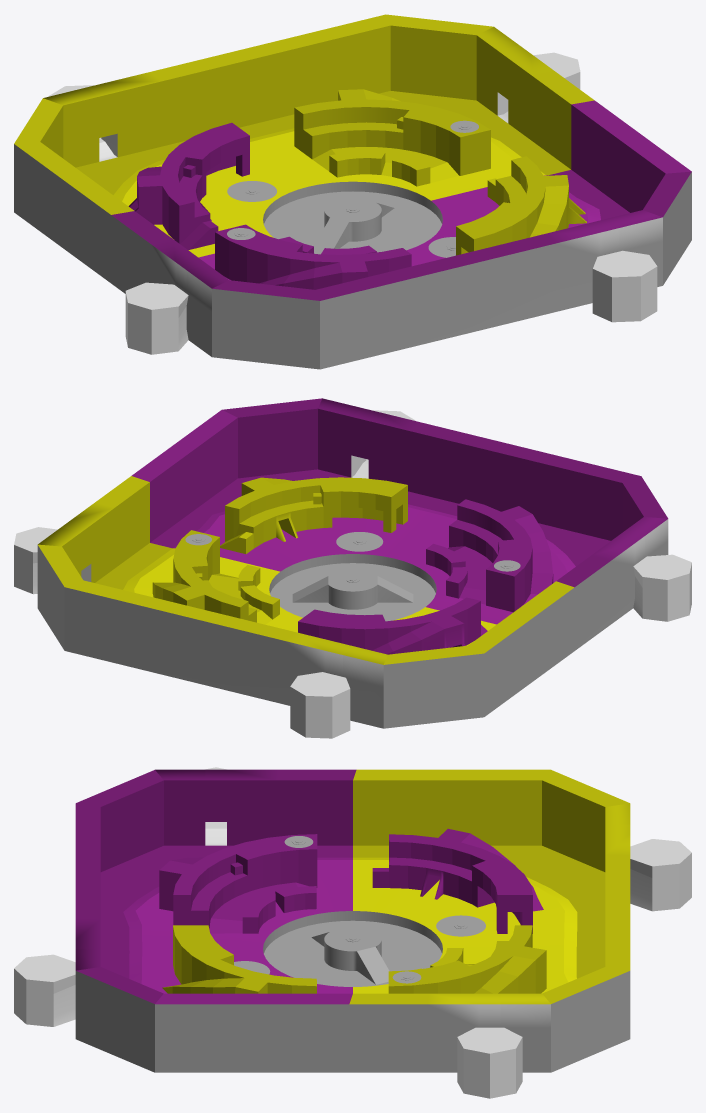
The model's file is scenman.fbx.
3 renders of one model, top to bottom at view 1: azimuth 30°, elevation 25°; view 2: azimuth 150°, elevation 25°; view 3: azimuth 270°, elevation 25°, orthographic. The views are drawn at different scales.
Visible parts, largest first — view 1: South_wall_and_spawn, West_wall_and_spawn, North_wall_and_spawn, East_wall_and_spawn, courtyard_raised_ground, courtyard_outer_2, courtyard_outer_3, courtyard_outer_5, polySurface6, courtyard_outer_4, courtyard_cover2, Center_platform_and_stair_2 (+3 smaller); view 2: North_wall_and_spawn, South_wall_and_spawn, West_wall_and_spawn, East_wall_and_spawn, courtyard_raised_ground, courtyard_outer_4, courtyard_outer_5, courtyard_outer_3, polySurface6, courtyard_outer_2, Center_platform_and_stair_2, courtyard_cover1 (+2 smaller); view 3: East_wall_and_spawn, West_wall_and_spawn, courtyard_raised_ground, South_wall_and_spawn, North_wall_and_spawn, polySurface6, courtyard_outer_3, courtyard_outer_5, courtyard_outer_2, courtyard_outer_4, courtyard_cover1, Center_platform_and_stair_2 (+1 smaller).
Part boxes in pixels (x1=…): South_wall_and_spawn: x1=315, y1=171, x2=691, y2=369; West_wall_and_spawn: x1=14, y1=142, x2=319, y2=369; North_wall_and_spawn: x1=14, y1=14, x2=390, y2=167; East_wall_and_spawn: x1=386, y1=14, x2=691, y2=212; courtyard_raised_ground: x1=113, y1=128, x2=600, y2=280; courtyard_outer_2: x1=294, y1=89, x2=490, y2=175; courtyard_outer_3: x1=128, y1=122, x2=249, y2=243; courtyard_outer_5: x1=215, y1=224, x2=411, y2=289; polySurface6: x1=76, y1=91, x2=629, y2=219; courtyard_outer_4: x1=456, y1=156, x2=586, y2=255; courtyard_cover2: x1=312, y1=147, x2=458, y2=186; Center_platform_and_stair_2: x1=314, y1=197, x2=394, y2=253; North_wall_and_spawn: x1=64, y1=580, x2=484, y2=738; South_wall_and_spawn: x1=222, y1=398, x2=640, y2=540; West_wall_and_spawn: x1=468, y1=476, x2=691, y2=716; East_wall_and_spawn: x1=14, y1=410, x2=237, y2=650; courtyard_raised_ground: x1=123, y1=504, x2=575, y2=645; courtyard_outer_4: x1=225, y1=477, x2=407, y2=548; courtyard_outer_5: x1=449, y1=499, x2=553, y2=612; courtyard_outer_3: x1=298, y1=597, x2=480, y2=654; polySurface6: x1=95, y1=469, x2=610, y2=589; courtyard_outer_2: x1=152, y1=530, x2=256, y2=622; Center_platform_and_stair_2: x1=292, y1=569, x2=413, y2=609; courtyard_cover1: x1=426, y1=543, x2=492, y2=604; East_wall_and_spawn: x1=155, y1=967, x2=630, y2=1098; West_wall_and_spawn: x1=76, y1=767, x2=550, y2=871; courtyard_raised_ground: x1=123, y1=857, x2=577, y2=993; South_wall_and_spawn: x1=14, y1=803, x2=163, y2=1072; North_wall_and_spawn: x1=542, y1=770, x2=691, y2=970; polySurface6: x1=100, y1=845, x2=605, y2=978; courtyard_outer_3: x1=389, y1=828, x2=543, y2=933; courtyard_outer_5: x1=159, y1=834, x2=317, y2=928; courtyard_outer_2: x1=388, y1=925, x2=546, y2=993; courtyard_outer_4: x1=162, y1=925, x2=316, y2=993; courtyard_cover1: x1=209, y1=882, x2=316, y2=933; Center_platform_and_stair_2: x1=311, y1=927, x2=389, y2=984.
Size of the model in its own units: 188 by 22 by 188.
